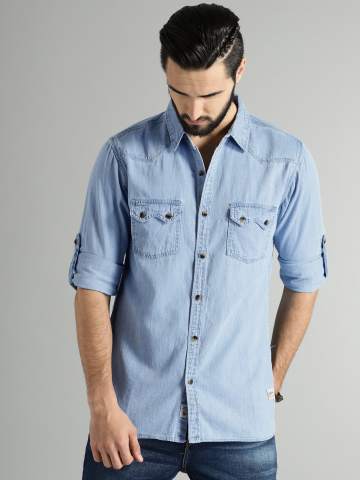Shirt: (70, 103, 339, 440)
